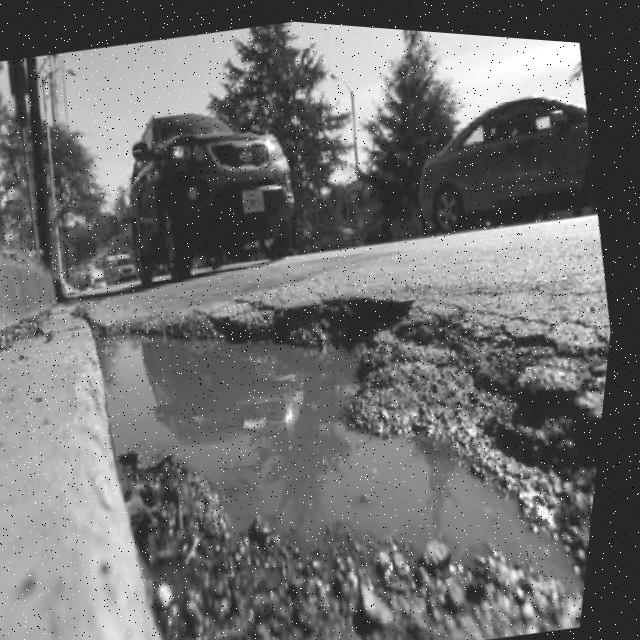Pothole: (60, 206, 624, 640)
